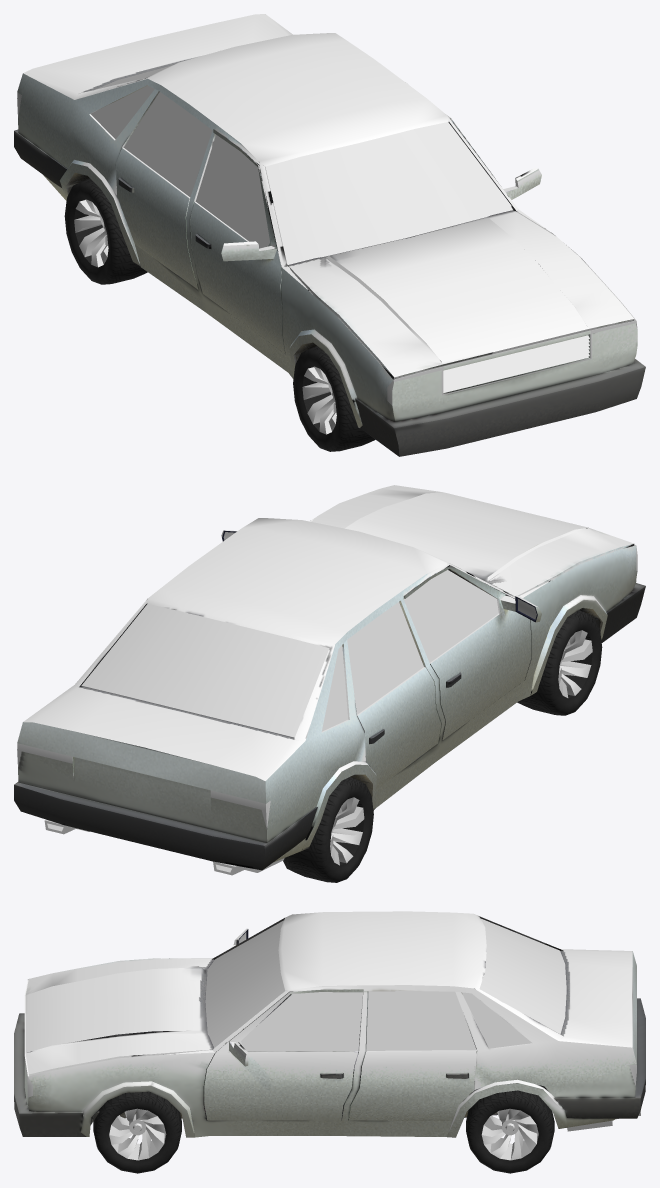
The model's file is Car.fbx.
The picture shows the model from 3 angles, top to bottom: view 1: azimuth 30°, elevation 25°; view 2: azimuth 150°, elevation 25°; view 3: azimuth 270°, elevation 25°; orthographic projection. The views are drawn at different scales.
Visible parts, largest first — view 1: CarBody, FrontGlass, RightDoor, RightBackDoor, r_03, RightBackGlass, r_02, RightGlass1, RightBackGlass2, LeftDoor; view 2: CarBody, BackGlass, RightDoor, RightBackDoor, r_03, r_02, RightBackGlass, RightGlass1, RightBackGlass2; view 3: CarBody, LeftDoor, LeftBackDoor, BackGlass, FrontGlass, LefBacktGlass, r_04, LeftGlass1, r_01, LeftBackGlass2.
Boxes of the visible parts, bbox=[...] form: CarBody: bbox=[14, 14, 645, 456]; FrontGlass: bbox=[265, 122, 512, 264]; RightDoor: bbox=[190, 129, 285, 353]; RightBackDoor: bbox=[116, 147, 198, 290]; r_03: bbox=[64, 178, 147, 284]; RightBackGlass: bbox=[124, 92, 212, 197]; r_02: bbox=[293, 346, 375, 451]; RightGlass1: bbox=[195, 134, 269, 248]; RightBackGlass2: bbox=[91, 85, 154, 139]; LeftDoor: bbox=[405, 82, 541, 199]; CarBody: bbox=[14, 485, 645, 875]; BackGlass: bbox=[81, 604, 329, 737]; RightDoor: bbox=[403, 565, 541, 740]; RightBackDoor: bbox=[357, 667, 441, 788]; r_03: bbox=[283, 777, 373, 882]; r_02: bbox=[517, 610, 602, 715]; RightBackGlass: bbox=[347, 602, 423, 714]; RightGlass1: bbox=[403, 570, 498, 662]; RightBackGlass2: bbox=[321, 645, 348, 731]; CarBody: bbox=[14, 911, 645, 1137]; LeftDoor: bbox=[203, 989, 363, 1120]; LeftBackDoor: bbox=[349, 1050, 476, 1120]; BackGlass: bbox=[479, 918, 566, 1034]; FrontGlass: bbox=[205, 920, 284, 1052]; LefBacktGlass: bbox=[366, 991, 476, 1050]; r_04: bbox=[466, 1090, 554, 1173]; LeftGlass1: bbox=[241, 992, 362, 1051]; r_01: bbox=[93, 1091, 181, 1173]; LeftBackGlass2: bbox=[462, 992, 532, 1048].
Size of the model in its own units: 347 by 228 by 726.
